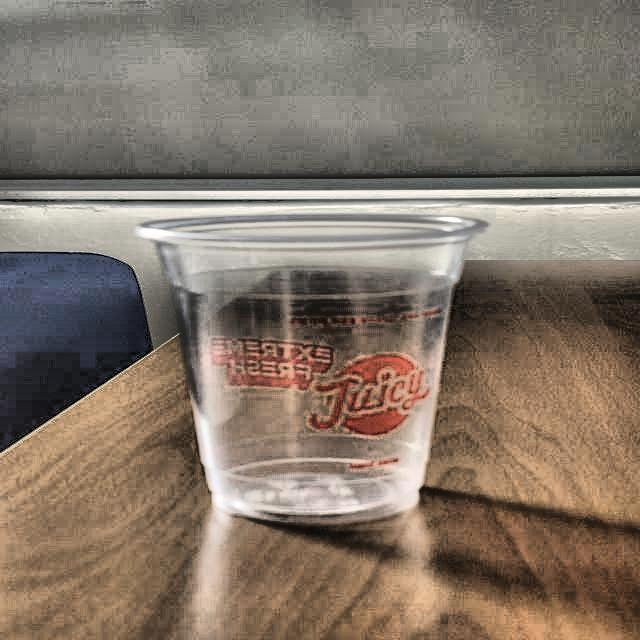plastic cup: (135, 210, 492, 528)
